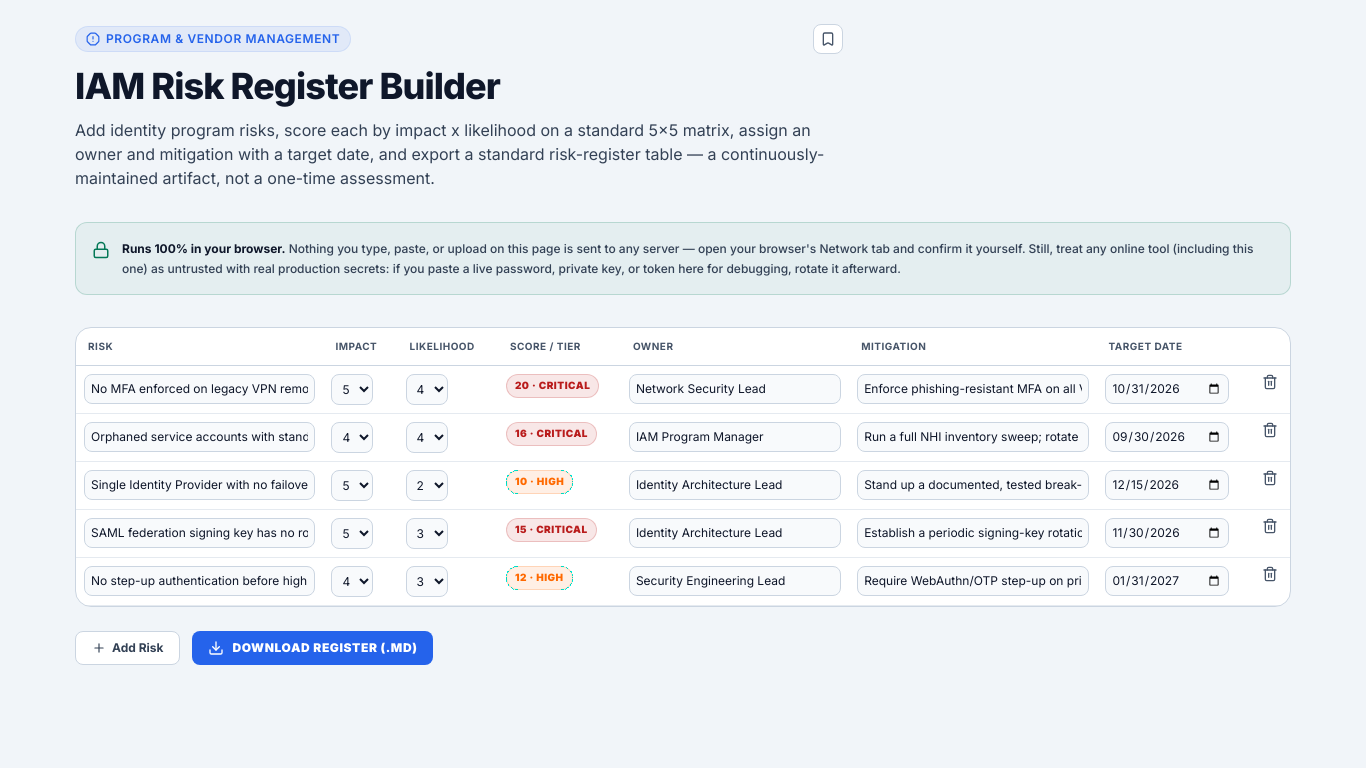
RiskRegisterBuilder page › removes a risk row on delete
Click the button named "remove risk" in the row of "20" at (1270, 382), box [1262,374,1278,390]
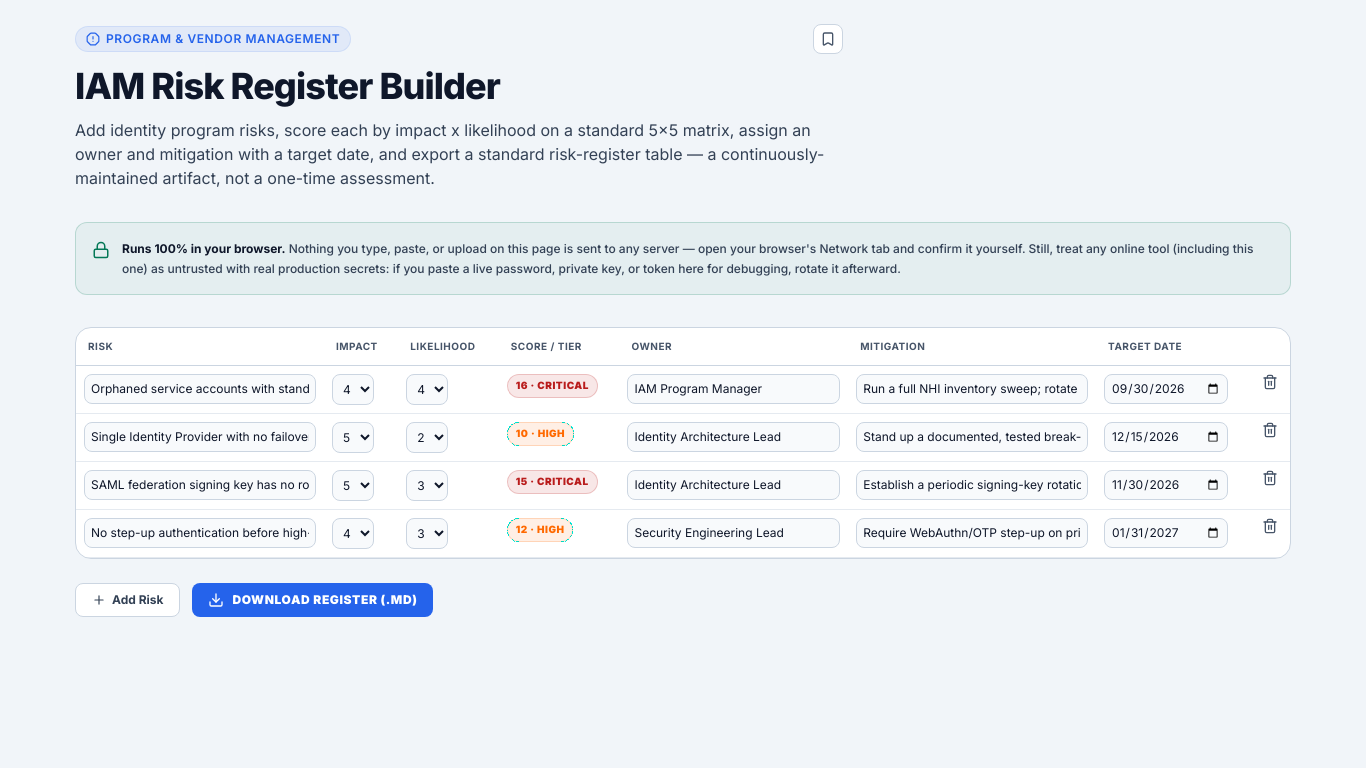
Expected: the number of fields with placeholder "Describe the risk" is 4, [84,374,316,404]; [84,422,316,452]; [84,470,316,500]; [84,518,316,548]
